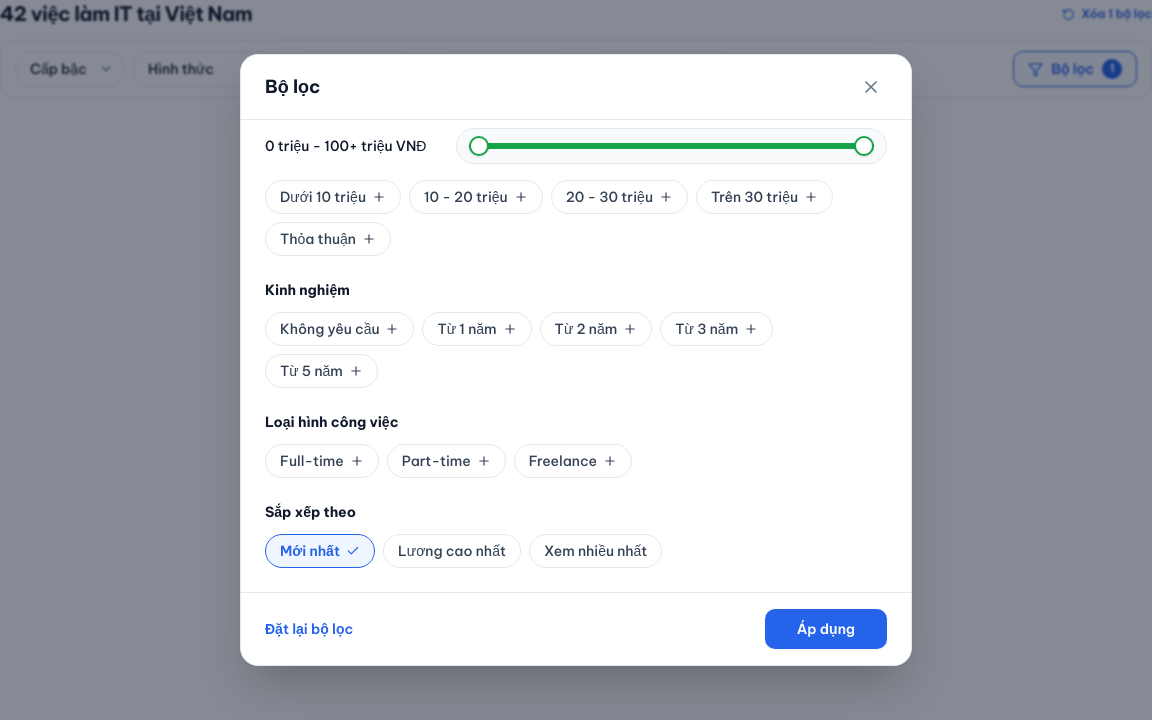
Test: JobFilterPanel › mở modal bộ lọc, chọn tiêu chí, đặt lại và áp dụng bộ lọc
This screenshot has width=1152, height=720.
Earlier steps of the test are not shown.
(page scrolled)
Step 1. Click the button "Lương cao nhất" → x=452, y=551, box [383, 534, 521, 568]
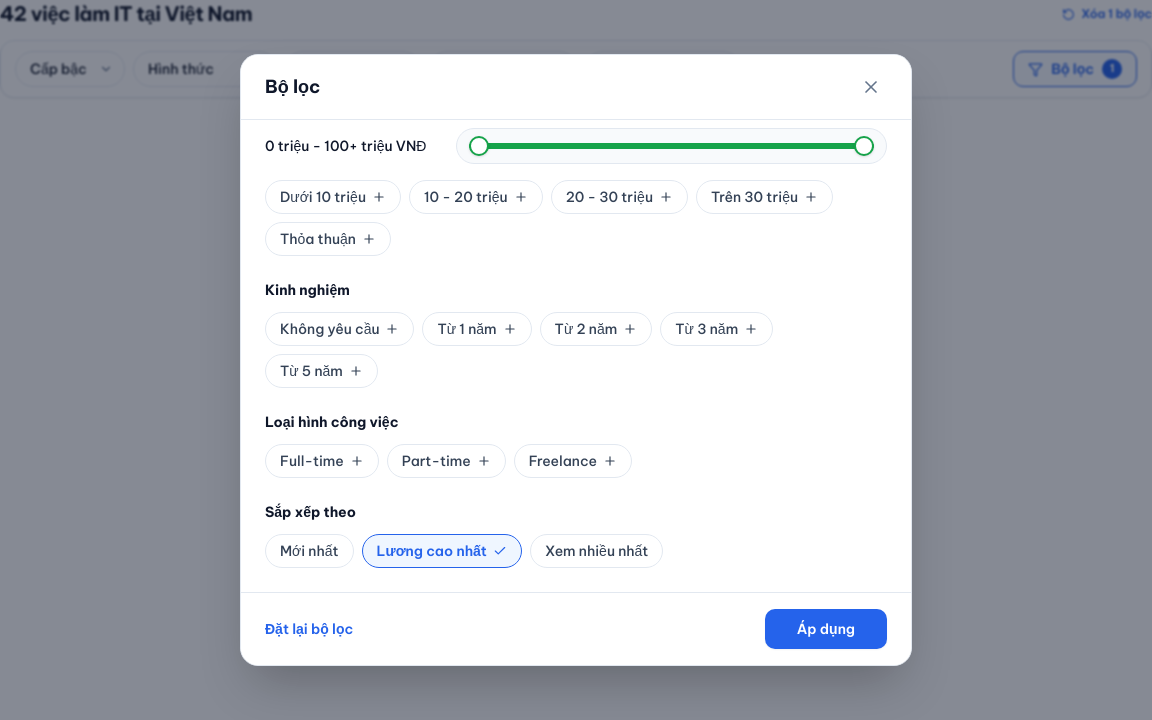
Step 2. Click the button "Áp dụng" → x=826, y=629, box [765, 609, 887, 649]
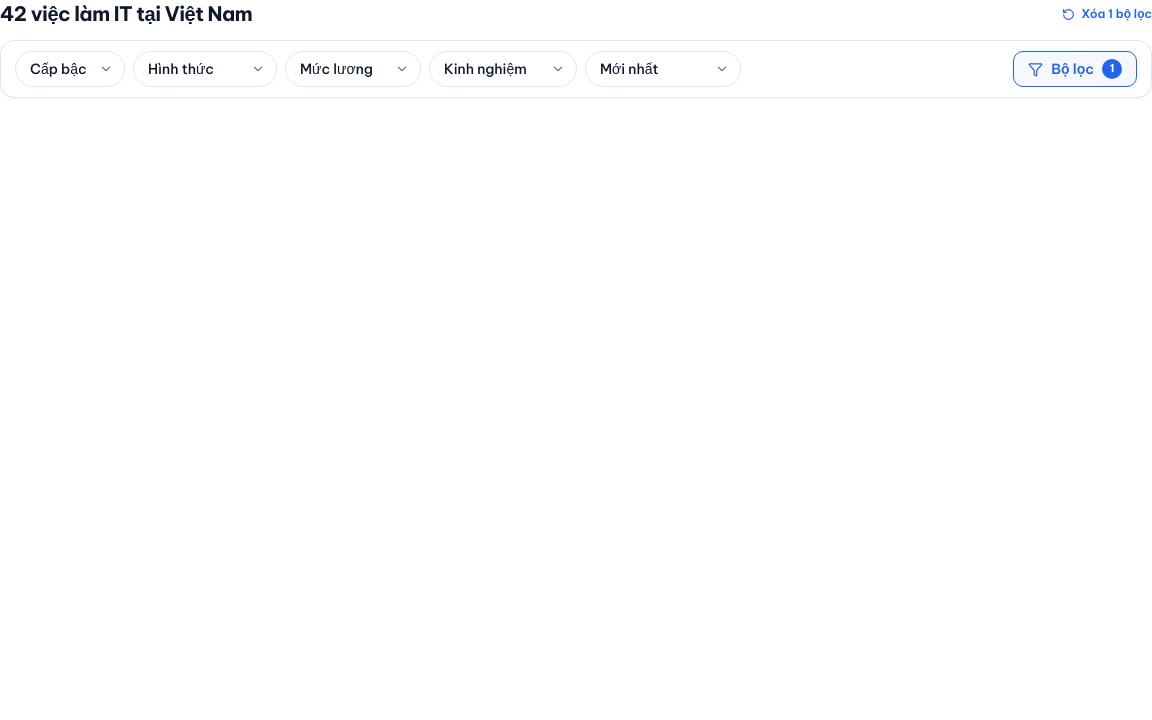
Step 3. Click the button "Bộ lọc 1" → x=1075, y=69, box [1013, 51, 1137, 87]
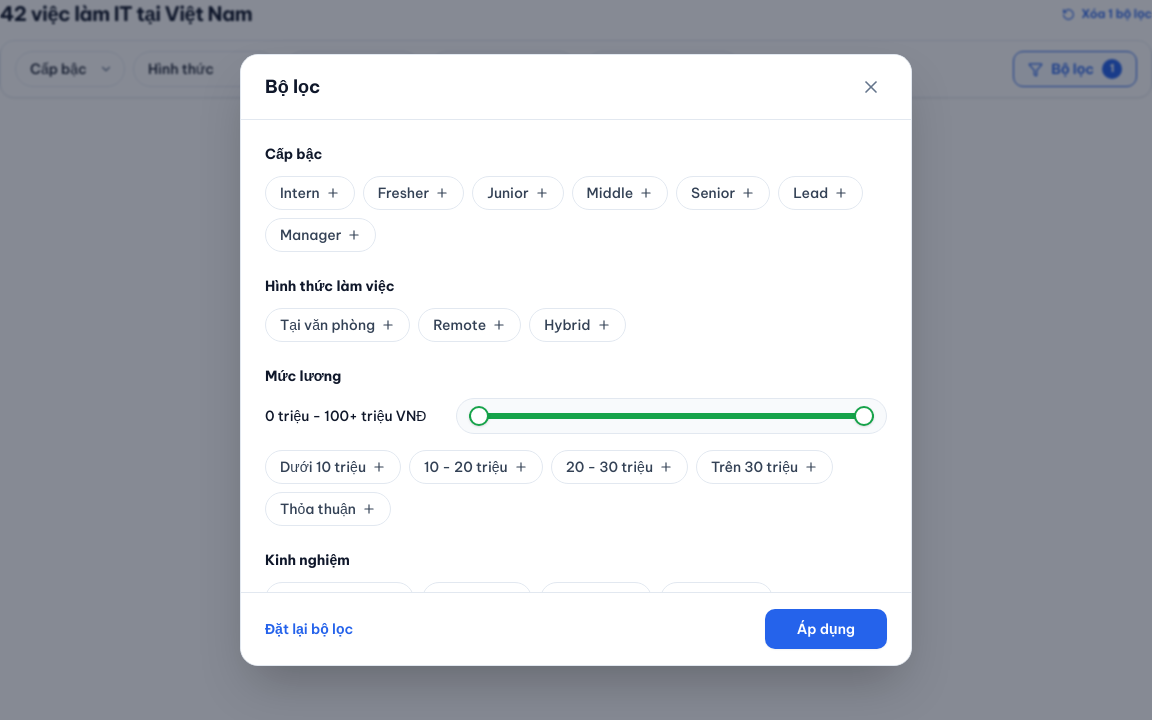
Step 4. Press Escape
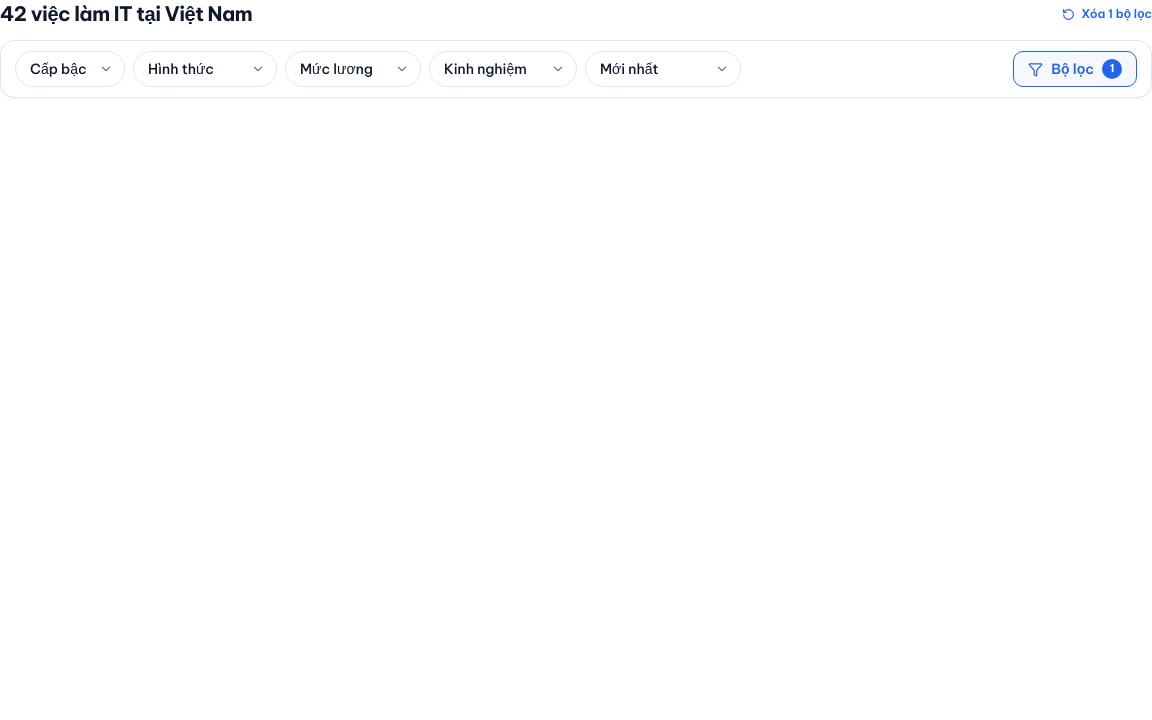
Now the dialog is gone
Step 5. Click the button "Bộ lọc 1" → x=1075, y=69, box [1013, 51, 1137, 87]
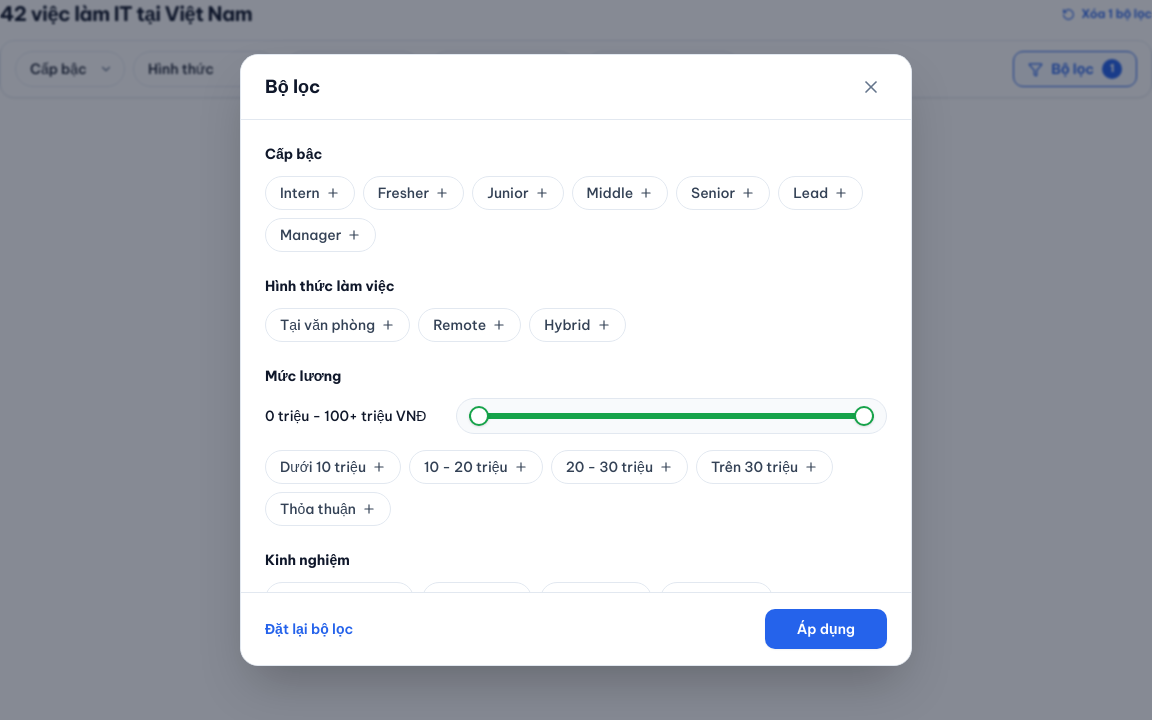
Step 6. Click the 1st button named "Đóng bộ lọc" → x=69, y=360, box [0, 0, 1151, 719]
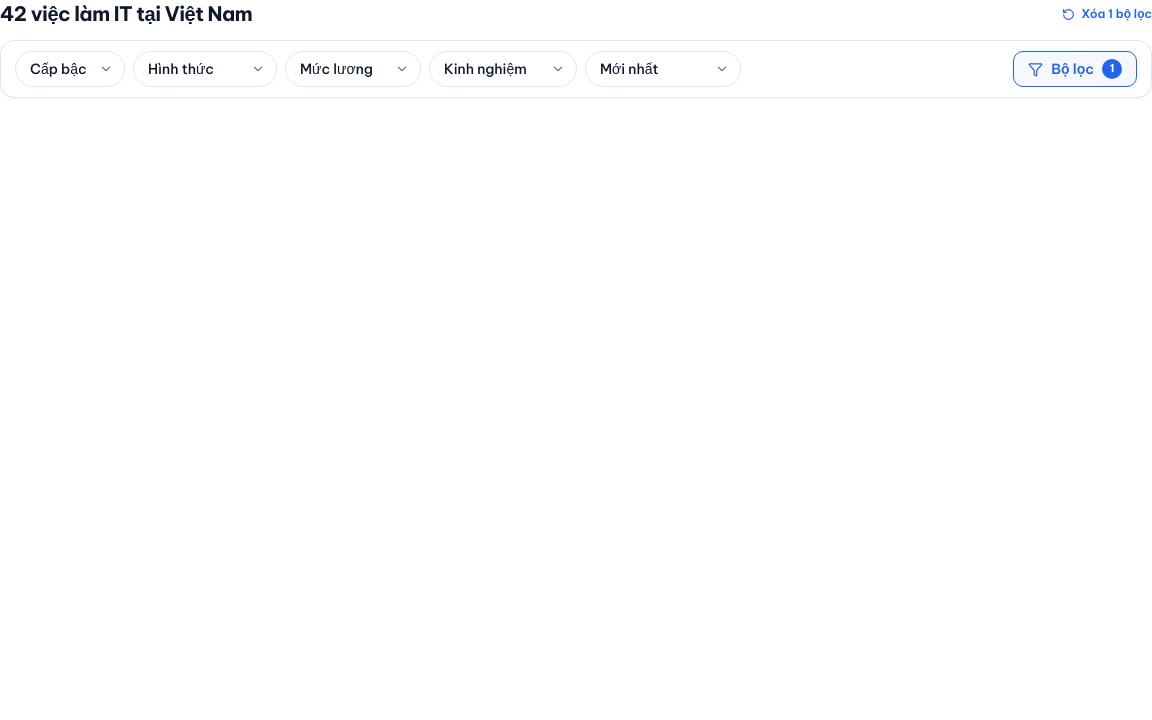
Now the dialog is gone
